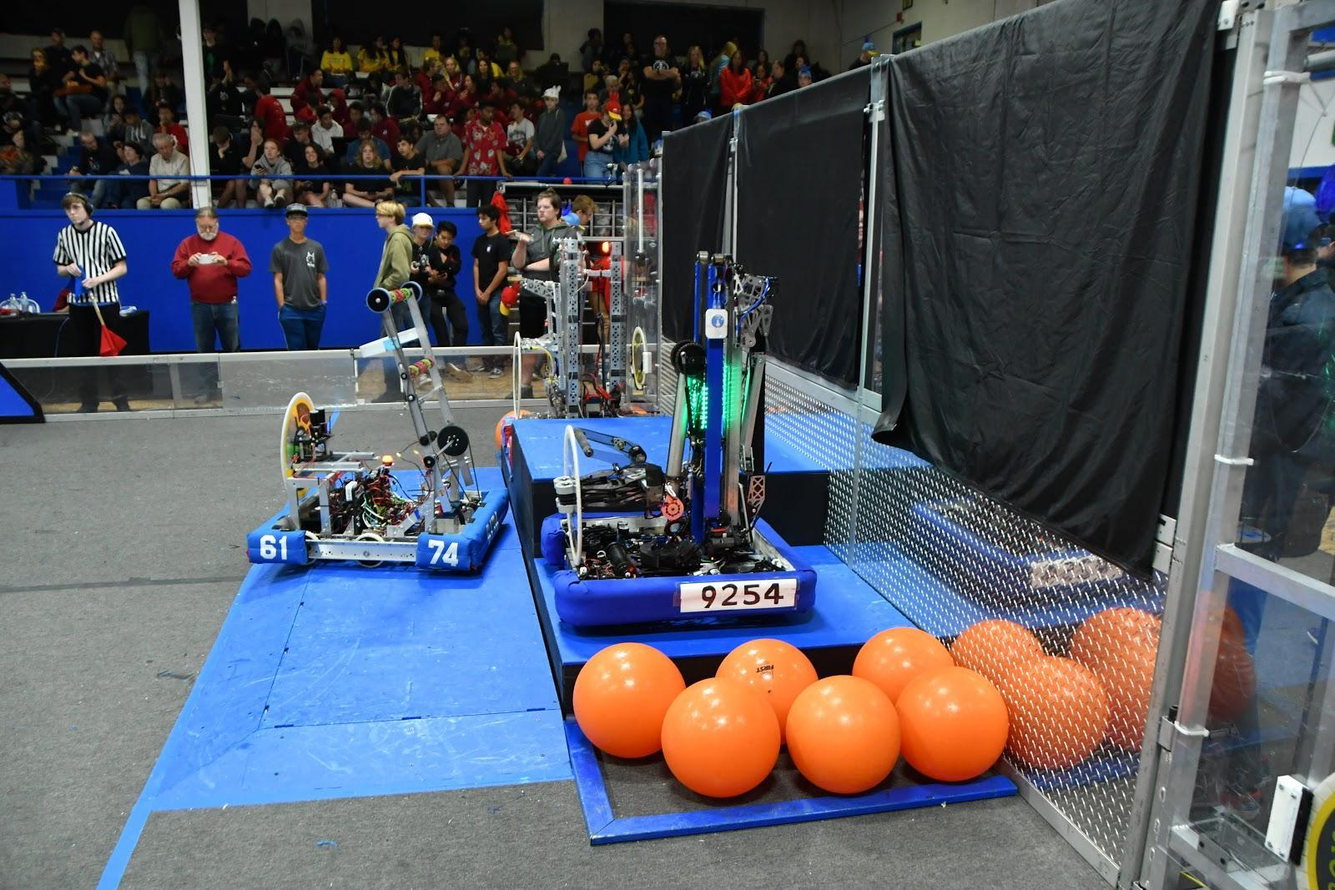robot: (533, 245, 823, 633), (235, 278, 517, 599), (501, 229, 649, 446)
